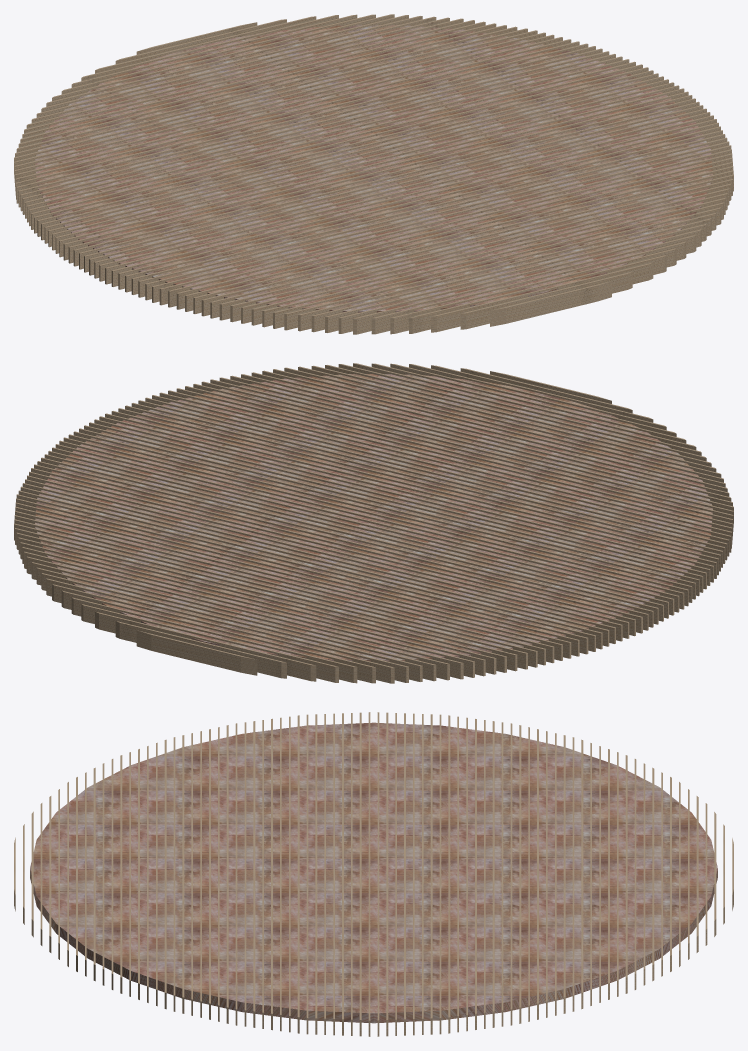
The model's file is zennist_roof.gltf.
3 renders of one model, top to bottom at view 1: azimuth 30°, elevation 25°; view 2: azimuth 150°, elevation 25°; view 3: azimuth 270°, elevation 25°, orthographic.
Parts seen in each view (by area): view 1: Roof bar, Roof base; view 2: Roof bar, Roof base; view 3: Roof base, Roof bar.
Boxes of the visible parts, x1,y1,x2,y2 form: Roof bar: (14,14,733,334); Roof base: (35,25,712,312); Roof bar: (14,363,733,683); Roof base: (35,374,712,661); Roof base: (30,722,717,1023); Roof bar: (14,712,733,1036).
Size of the model in its own units: 6.98 by 0.1724 by 6.89.
Materials: 5 (2 with a texture image).
